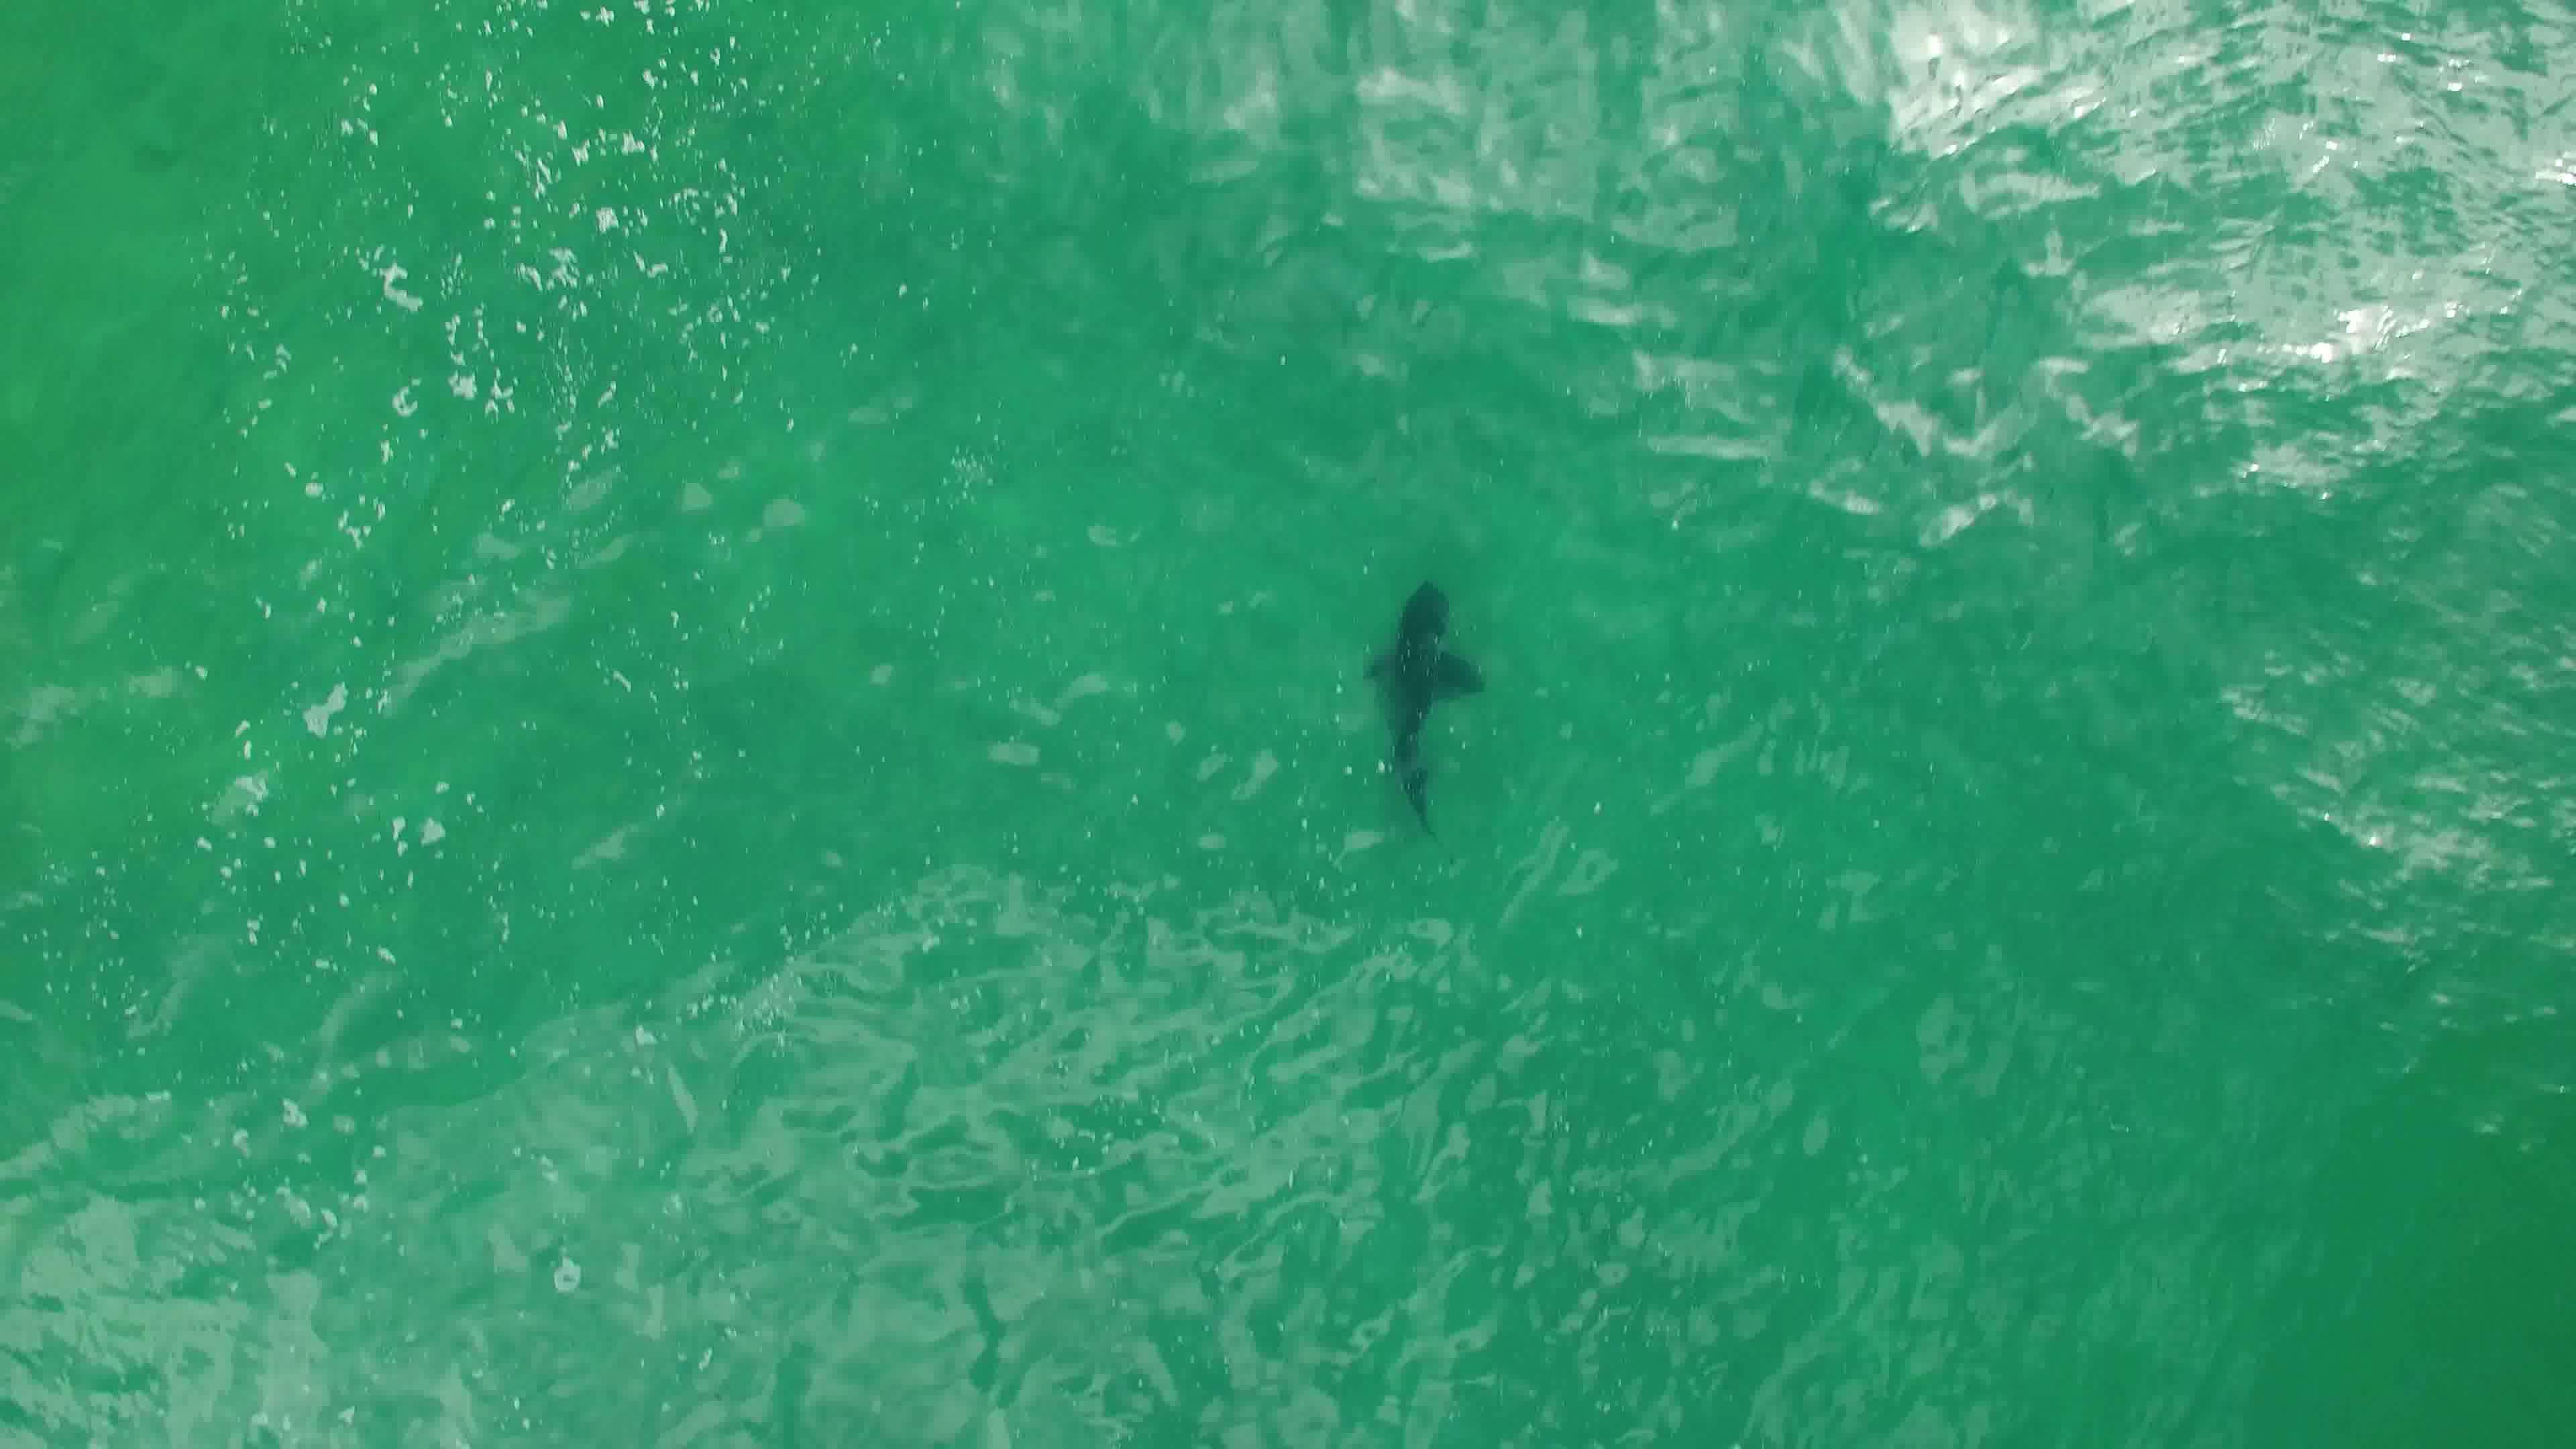shark: (1352, 577, 1488, 839)
